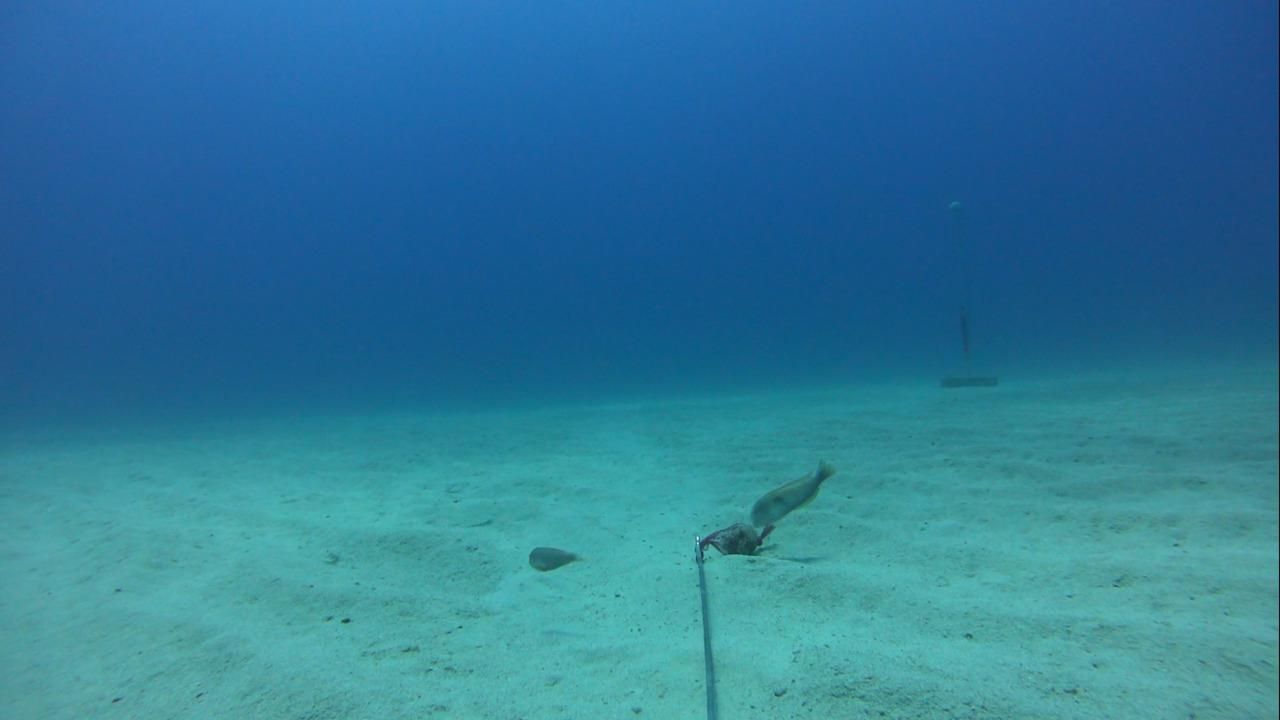raor: (746, 446, 834, 530), (517, 534, 580, 573)
